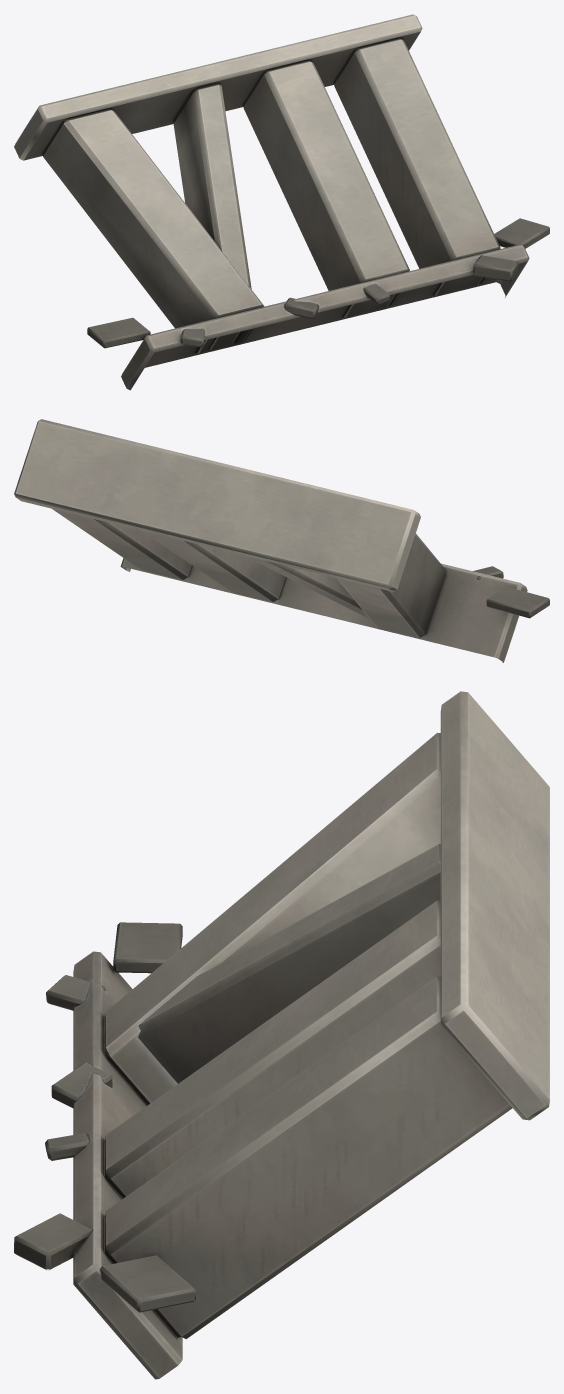
Rendered from numeral_vii.glb.
3 renders of one model, top to bottom at view 1: azimuth 30°, elevation 25°; view 2: azimuth 150°, elevation 25°; view 3: azimuth 270°, elevation 25°, orthographic. The views are drawn at different scales.
Parts seen in each view (by area): view 1: numeral_vii_body; view 2: numeral_vii_body; view 3: numeral_vii_body.
Part boxes in pixels (bbox=[...]): numeral_vii_body: bbox=[14, 14, 549, 390]; numeral_vii_body: bbox=[14, 419, 549, 662]; numeral_vii_body: bbox=[14, 691, 549, 1379].
Size of the model in its own units: 8.23 by 3.8 by 4.92.
1 material, 1 textured.
